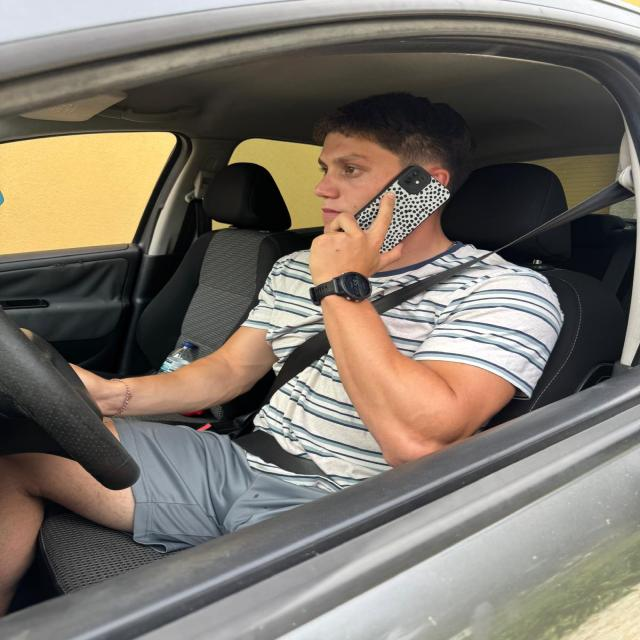Phone: (321, 164, 453, 259)
Seatbelt: (230, 245, 508, 491)
